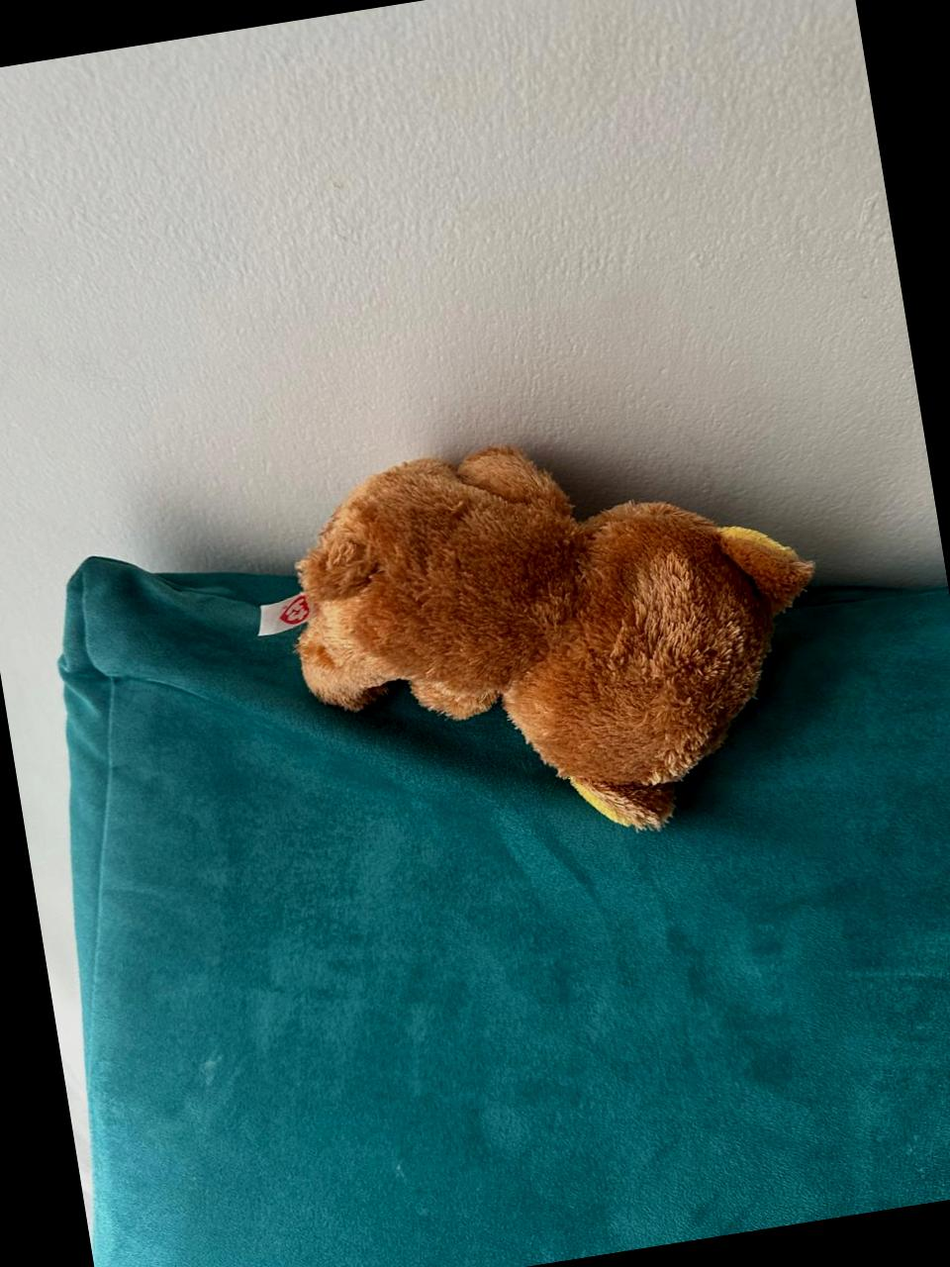peluche_sebastian: (270, 401, 832, 881)
